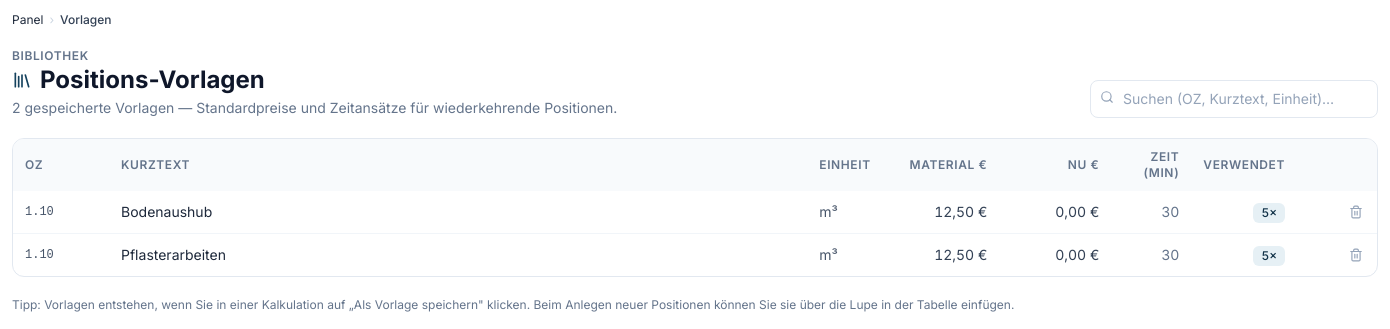
Test: Vorlagen — extended coverage › after delete, the row is removed from the table without a refetch
This screenshot has width=1390, height=329.
expect the text "Bodenaushub" is shown: met, box top-left (109, 191), bottom-right (807, 234)
expect the text "Pflasterarbeiten" is shown: met, box top-left (109, 234), bottom-right (807, 276)
Note: Find the delete button on row A (the first one) and click it.
What coordinates should you click on to do the following:
click the button named "Vorlage löschen" in the row of "Bodenaushub"
I would click on:
 (1356, 212)
Its box is top-left (1343, 199), bottom-right (1369, 225).
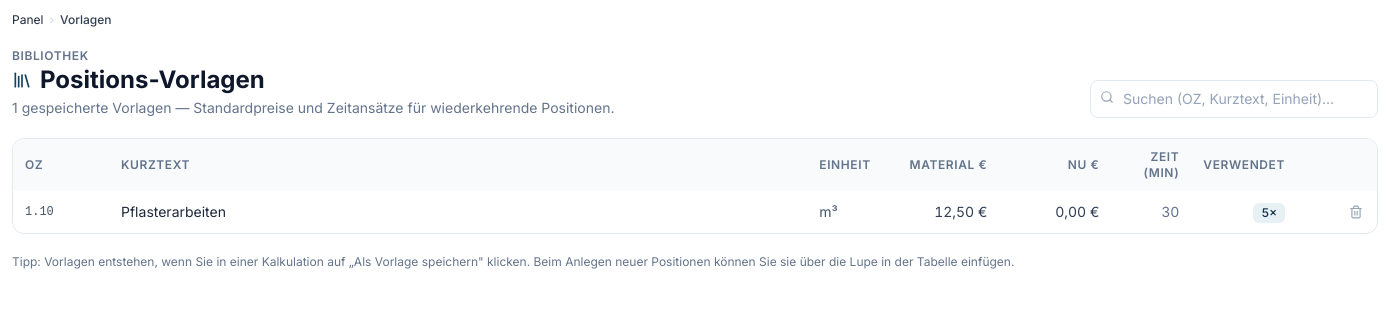
expect the text "Pflasterarbeiten" is shown: met, box top-left (109, 191), bottom-right (807, 233)
expect the text "Bodenaushub" is gone: met
